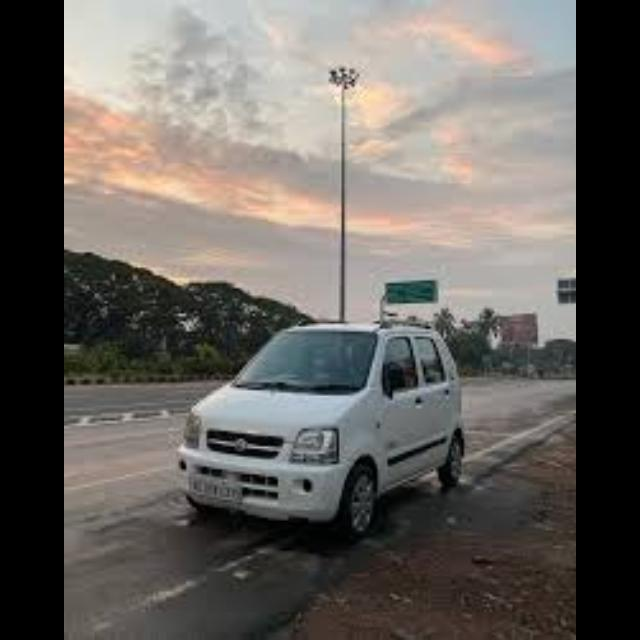number-plate: (184, 469, 243, 505)
vehicles: (174, 317, 470, 536)
